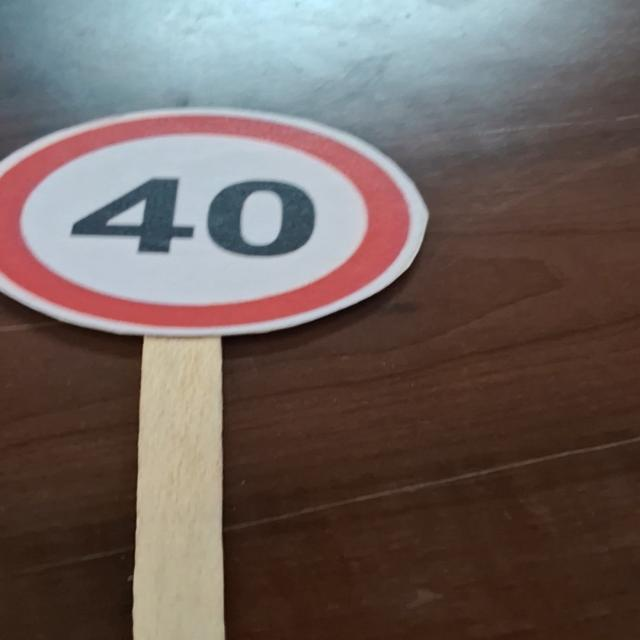Speed40: (1, 104, 430, 336)
